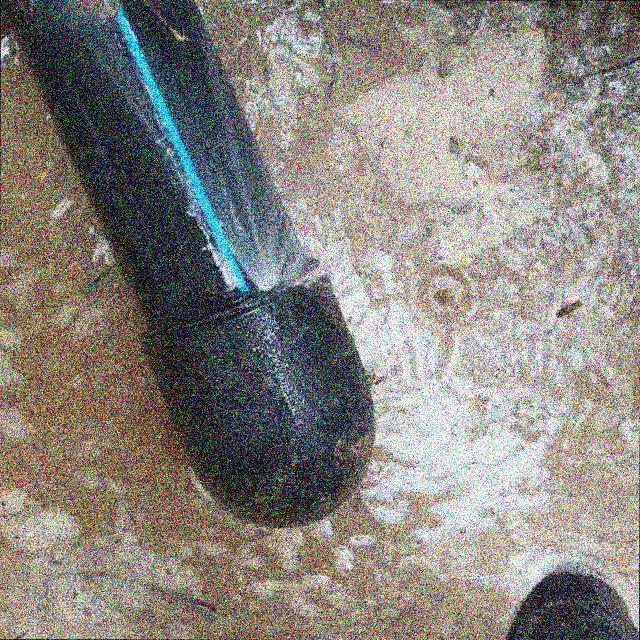pipe burst: (199, 105, 364, 306)
